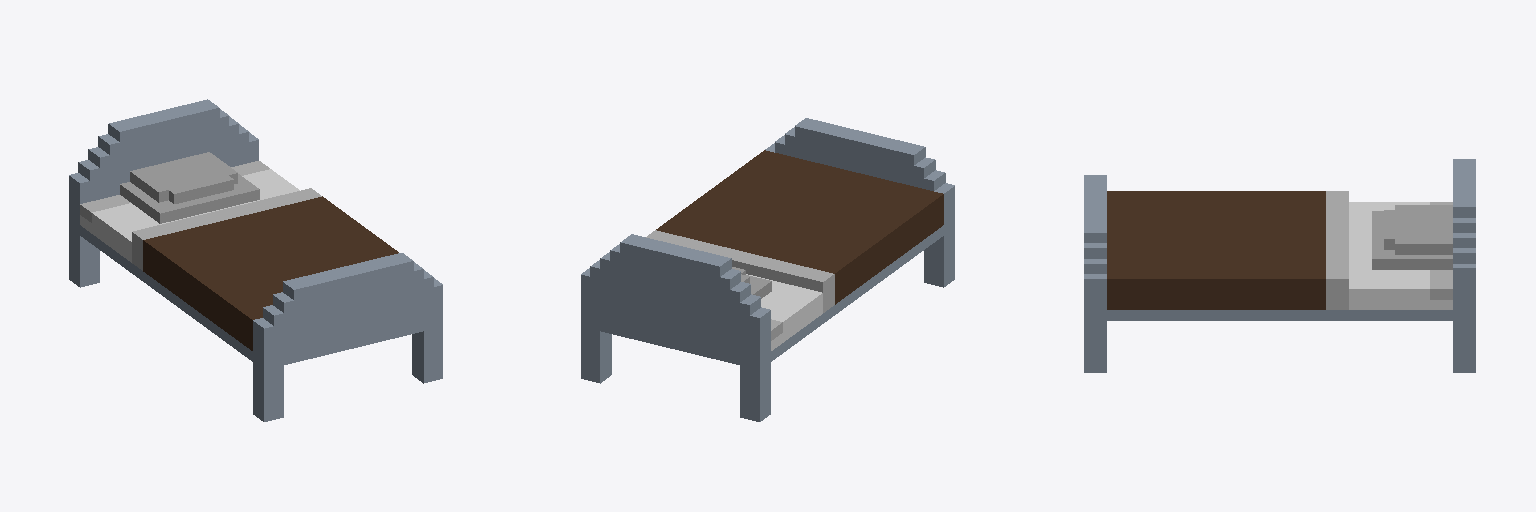
3 renders of one model, left to right at view 1: azimuth 30°, elevation 25°; view 2: azimuth 150°, elevation 25°; view 3: azimuth 270°, elevation 25°, orthographic.
Parts seen in each view (by area): view 1: bed1; view 2: bed1; view 3: bed1.
Part boxes in pixels (bbox=[...]): bed1: bbox=[69, 99, 442, 421]; bed1: bbox=[581, 118, 954, 421]; bed1: bbox=[1084, 159, 1475, 372].
Bounding box in the file's own units: 18 × 14 × 34.
Materials: 1 (1 with a texture image).